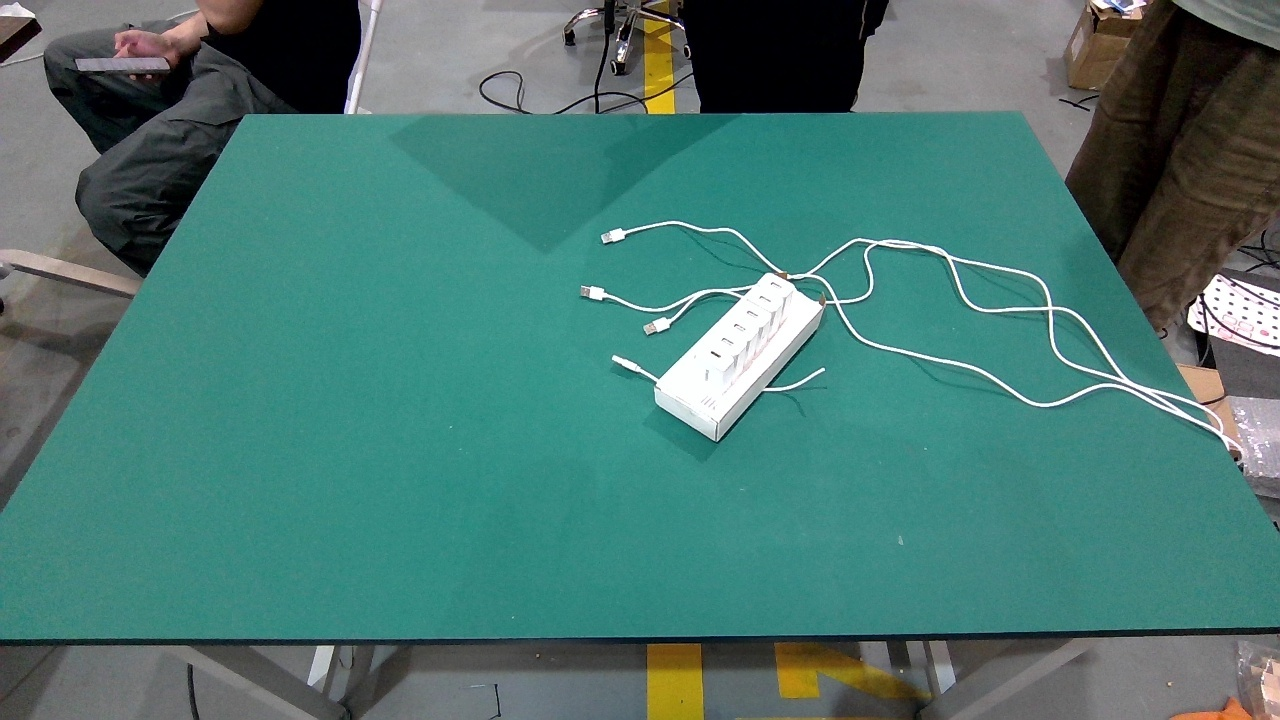usb_a_port: (720, 337, 734, 347), (733, 323, 747, 332), (758, 295, 772, 303), (745, 310, 759, 318), (709, 351, 723, 359), (770, 281, 782, 289)
